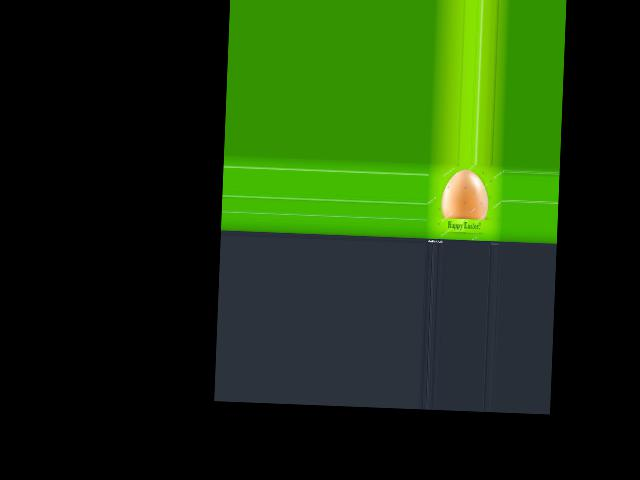egg: (441, 168, 489, 219)
